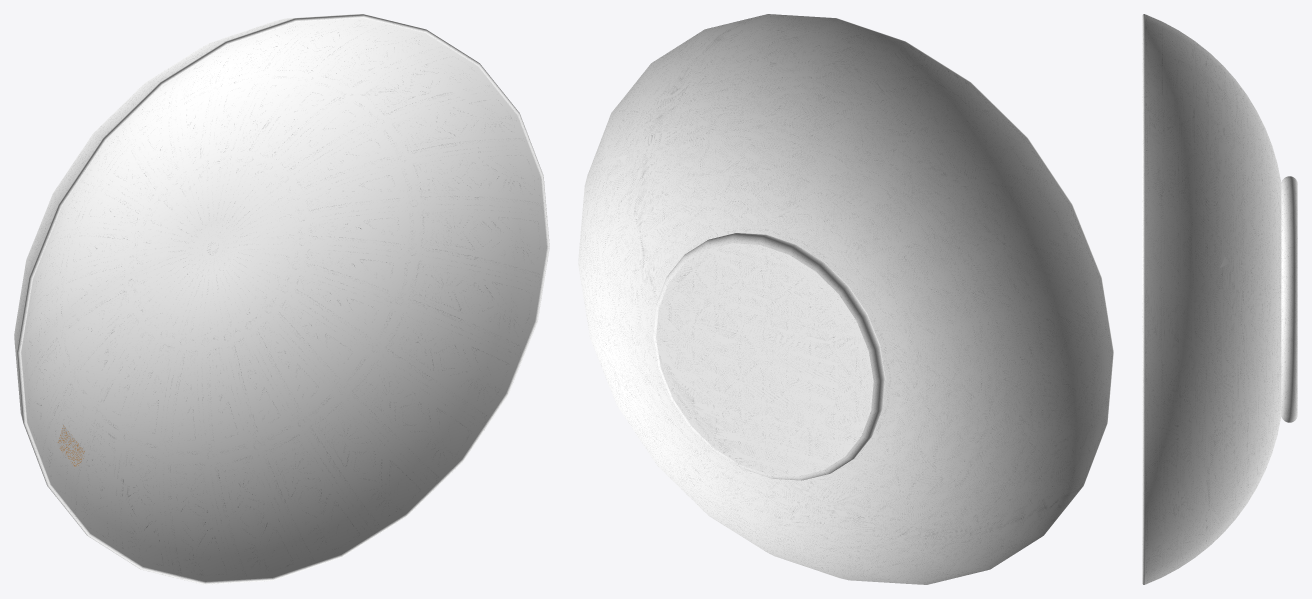
The model's file is model_scale.obj.
3 renders of one model, left to right at view 1: azimuth 30°, elevation 25°; view 2: azimuth 150°, elevation 25°; view 3: azimuth 270°, elevation 25°, orthographic. The views are drawn at different scales.
Parts seen in each view (by area): view 1: mesh1_mesh1-geometry; view 2: mesh1_mesh1-geometry; view 3: mesh1_mesh1-geometry.
Boxes of the visible parts, x1,y1,x2,y2 form: mesh1_mesh1-geometry: (14,14,549,584); mesh1_mesh1-geometry: (578,14,1113,584); mesh1_mesh1-geometry: (1142,14,1297,584).
Bounding box in the file's own units: 0.1497 × 0.1497 × 0.0407.
Materials: 4 (2 with a texture image).
